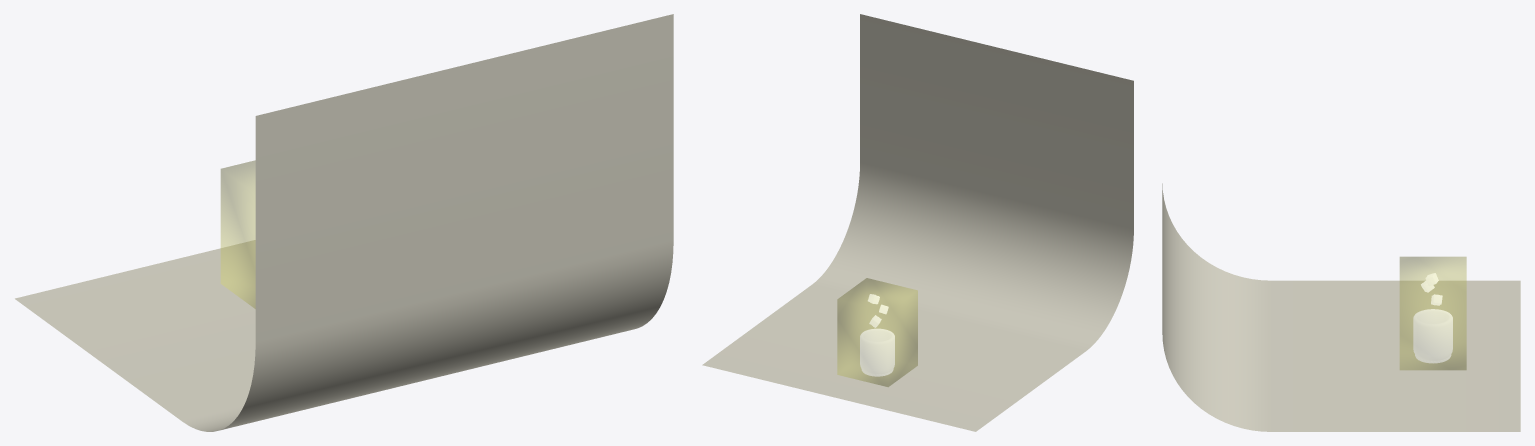
The model's file is GlassScene.glb.
The picture shows the model from 3 angles, left to right: view 1: azimuth 30°, elevation 25°; view 2: azimuth 150°, elevation 25°; view 3: azimuth 270°, elevation 25°; orthographic projection. The views are drawn at different scales.
Visible parts, largest first — view 1: Plane, Liquid Domain; view 2: Plane, Liquid Domain, Cylinder.002; view 3: Plane, Liquid Domain, Cylinder.002, Cylinder.
Part boxes in pixels (<box>): Plane: <box>15,14,673,431</box>; Liquid Domain: <box>221,160,255,308</box>; Plane: <box>702,14,1133,431</box>; Liquid Domain: <box>837,278,917,386</box>; Cylinder.002: <box>860,328,894,374</box>; Plane: <box>1162,183,1520,431</box>; Liquid Domain: <box>1400,257,1466,369</box>; Cylinder.002: <box>1413,309,1452,360</box>; Cylinder: <box>1415,310,1451,363</box>.
Bounding box in the file's own units: 20.38 × 16.74 × 20.38.
